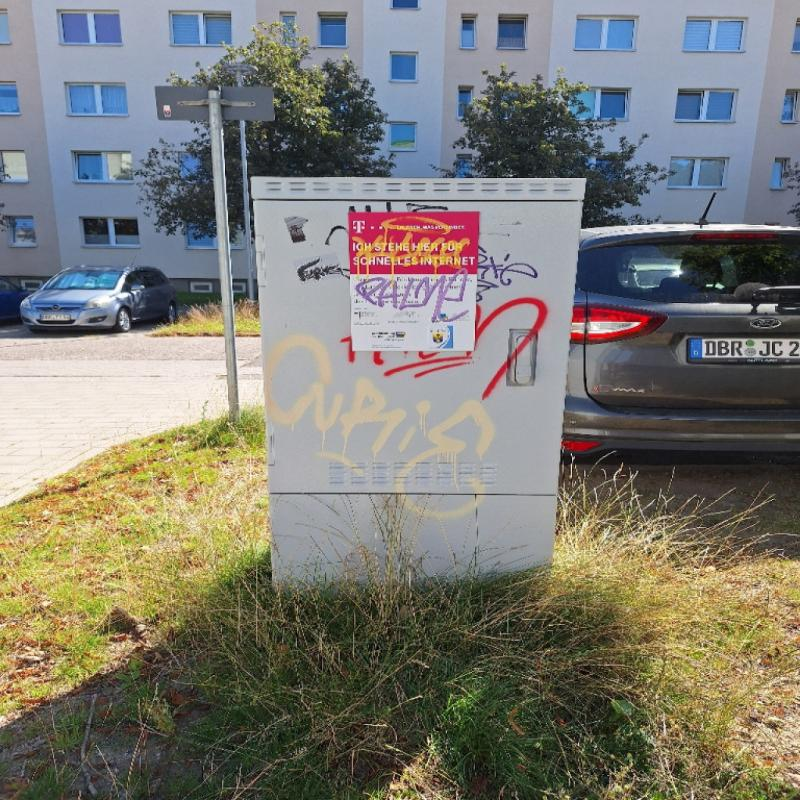NT-Gehause: (251, 173, 583, 568)
Steaker: (348, 211, 478, 357)
